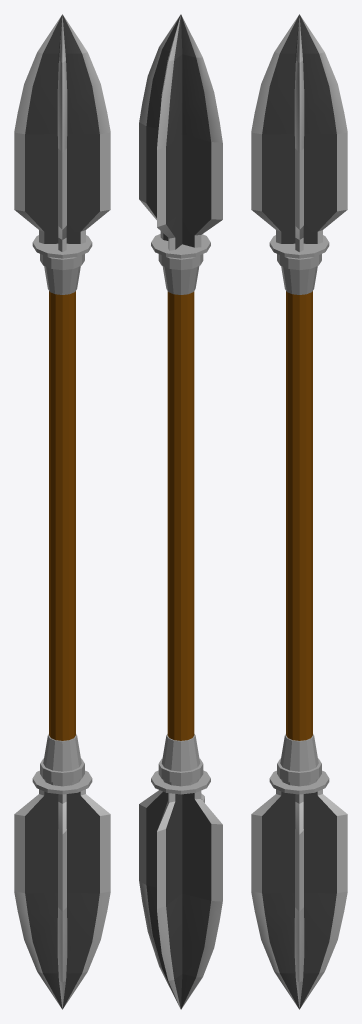
The model's file is Spear_02.fbx.
3 views of the same model, side by side, from view 1: azimuth 90°, elevation 25°; view 2: azimuth 150°, elevation 25°; view 3: azimuth 270°, elevation 25° (orthographic).
Parts seen in each view (by area): view 1: Spear_02; view 2: Spear_02; view 3: Spear_02.
Part boxes in pixels (x1,y1,x2,y2): Spear_02: (14, 14, 110, 1009); Spear_02: (139, 14, 222, 1009); Spear_02: (251, 14, 347, 1009).
Bounding box in the file's own units: 1.45 × 16.44 × 1.45.
